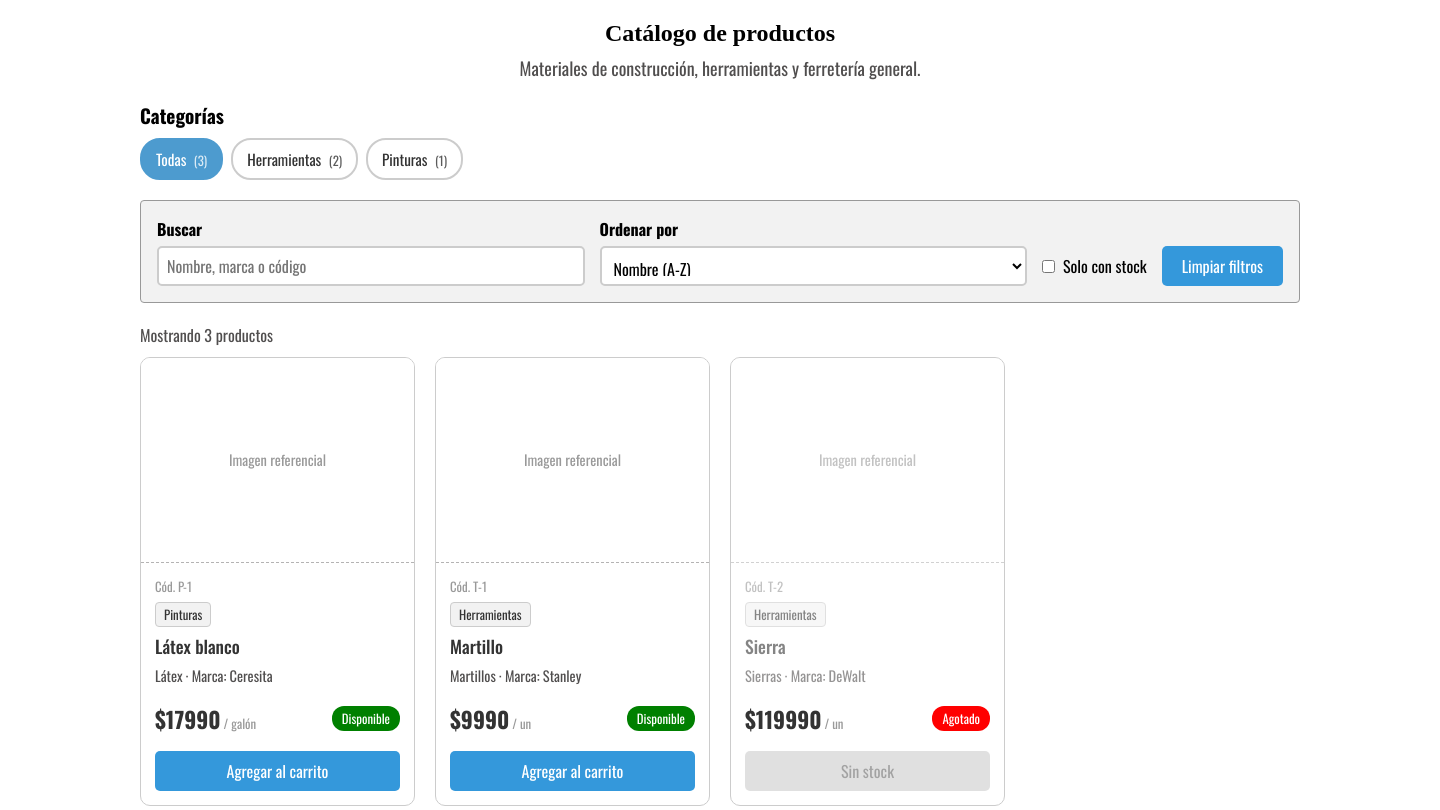
Test: Catalogo › filtra por texto de búsqueda (nombre, marca o código)
Type "dewalt" into the search field labelled "Buscar". click: (371, 266)
box: [157,246,584,286]
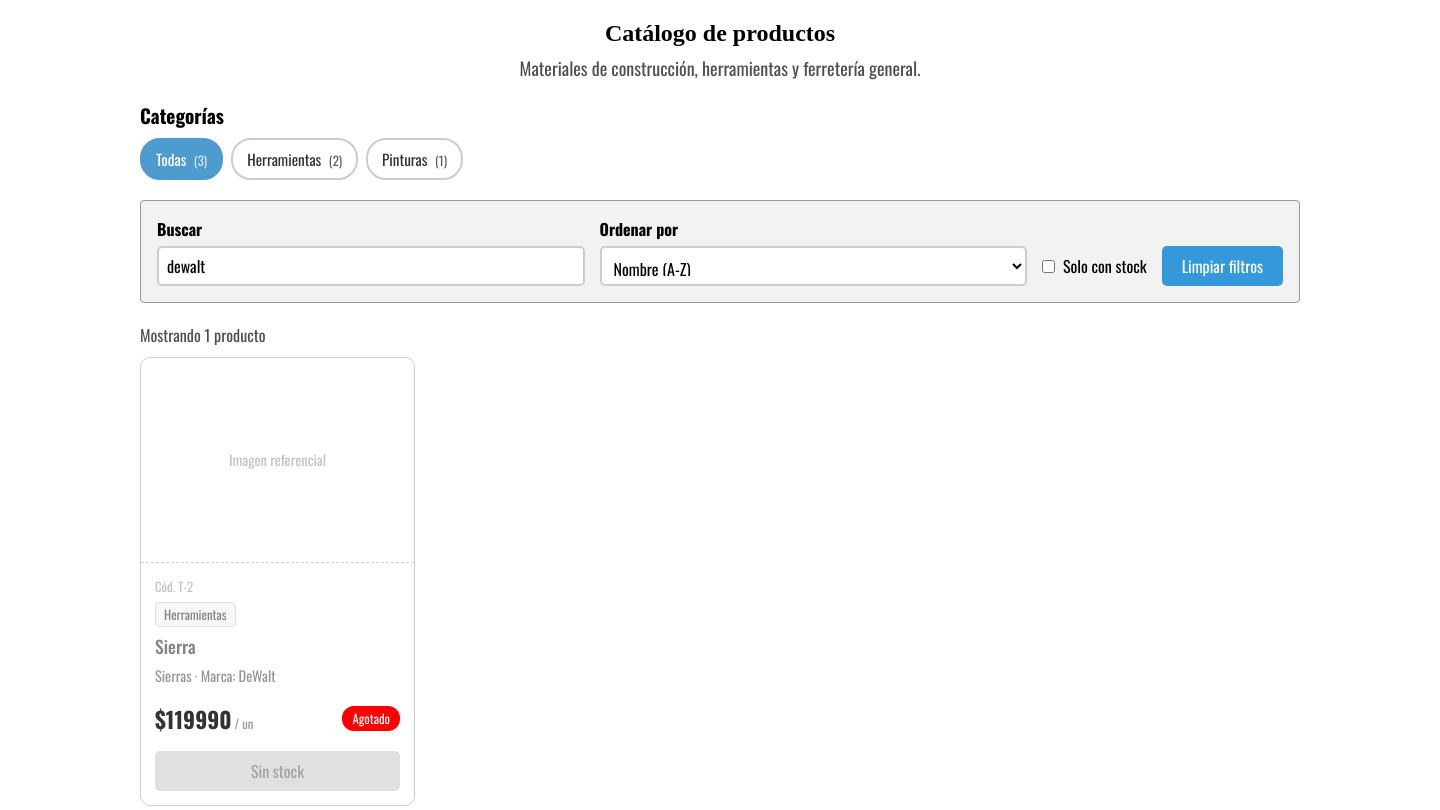
Expected: the text "Mostrando 1 producto" is shown, [140,323,266,347]
